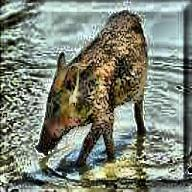boar: (34, 9, 148, 173)
